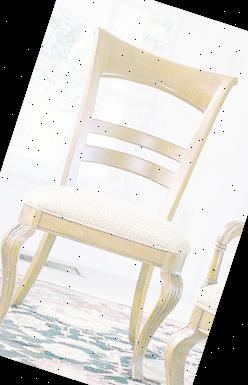Silla: (0, 17, 247, 384)
